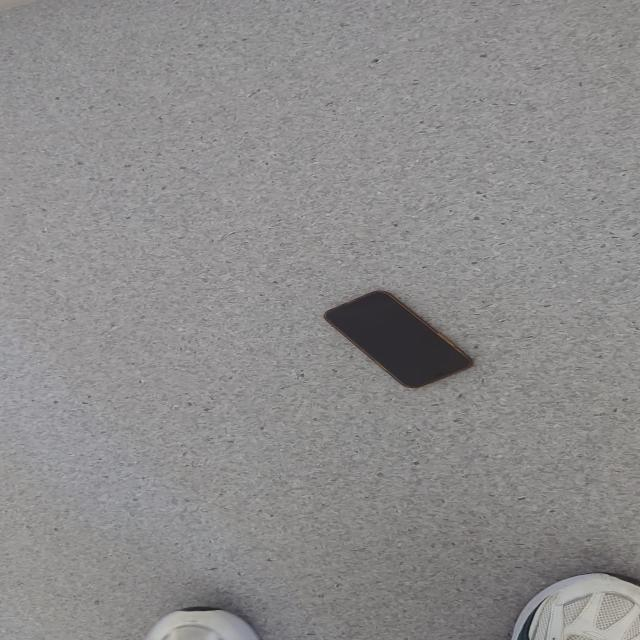phone: (322, 290, 473, 390)
